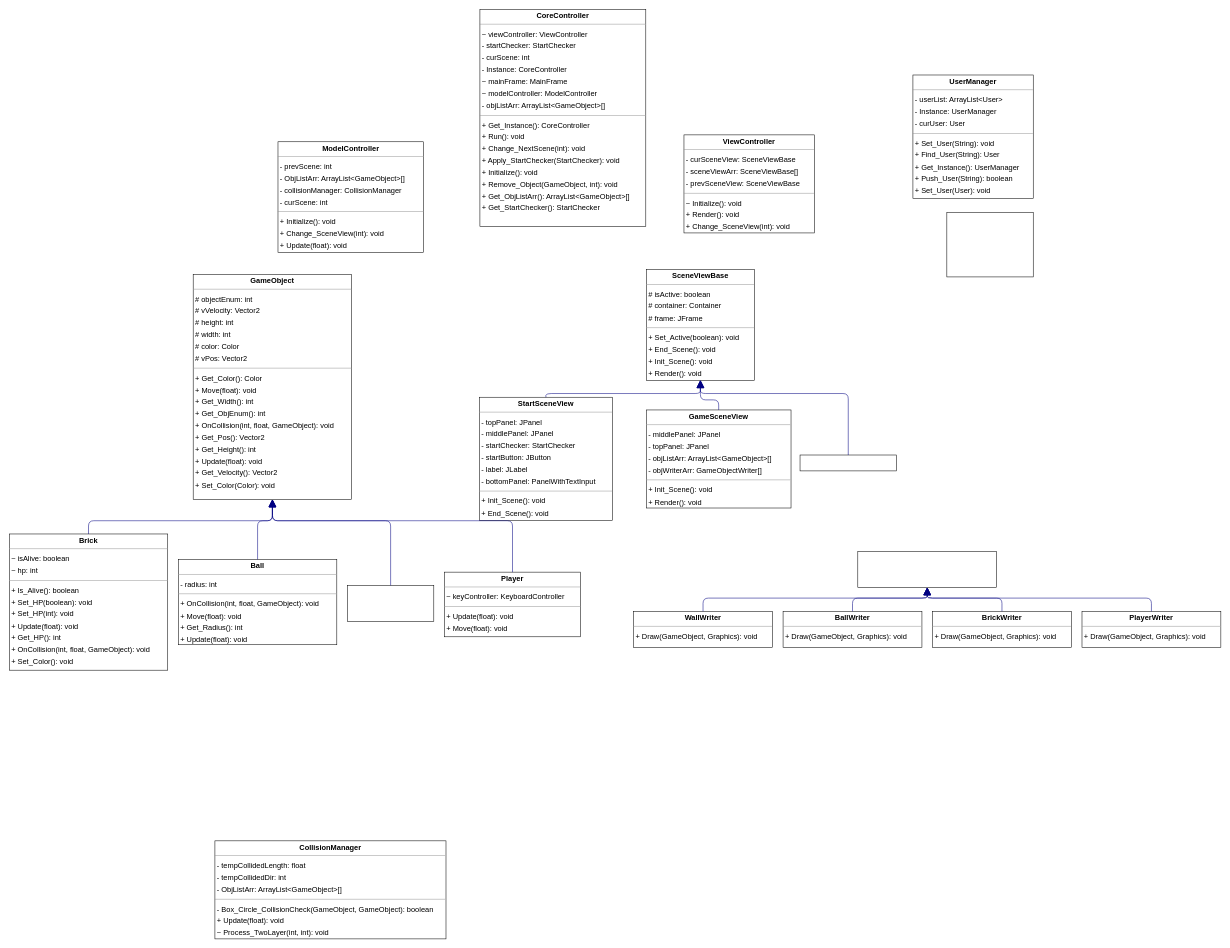
Some shapes in this 1230 by 948 pixel diagram are drawn without their labels. The shapes that lost their labels are listed below. From the top down, each one's centre as x and y in pixels, then its label:
At (989,244): "User - name: String - score: int + Get_Name(): String".
At (848,462): "ScoreSceneView".
At (927,569): "GameObjectWriter + Draw(GameObject, Graphics): void".
At (390,603): "Wall + Update(float): void".
